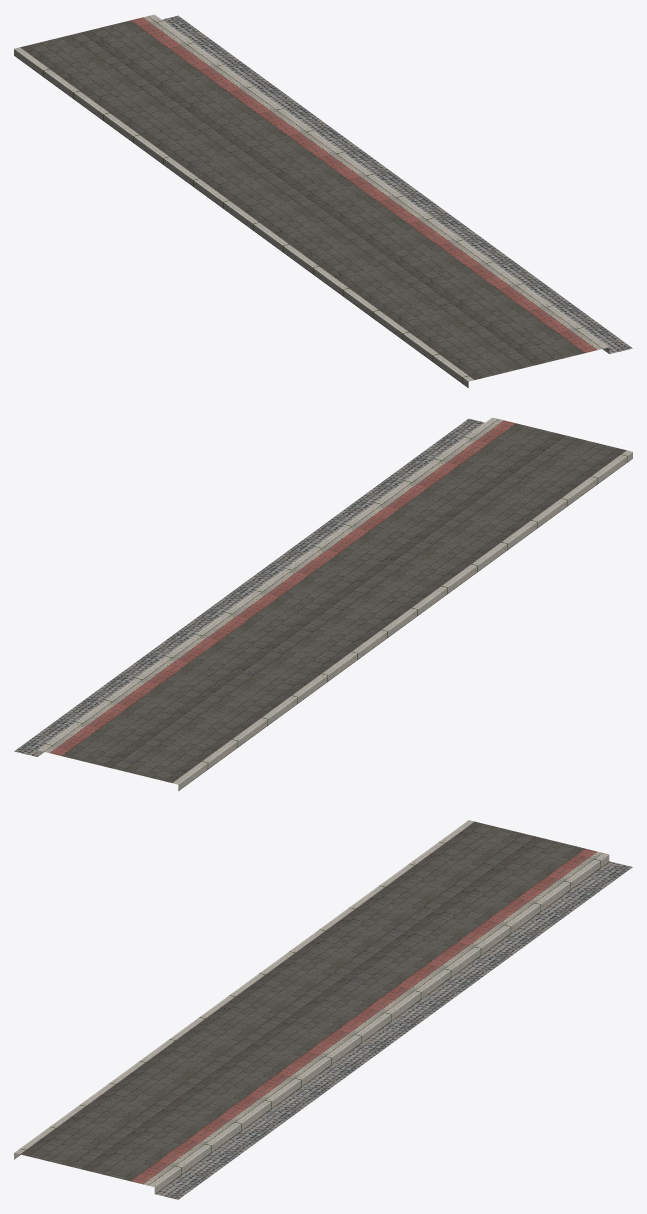
The model's file is sidewalk1.glb.
3 views of the same model, one above another, from view 1: azimuth 30°, elevation 25°; view 2: azimuth 150°, elevation 25°; view 3: azimuth 330°, elevation 25° (orthographic).
Parts seen in each view (by area): view 1: Object_2; view 2: Object_2; view 3: Object_2.
Boxes of the visible parts, <box> form: Object_2: <box>14,14,632,387</box>; Object_2: <box>14,417,632,790</box>; Object_2: <box>14,820,632,1199</box>.
Size of the model in its own units: 11.97 by 0.4807 by 57.39.
1 material, 1 textured.
